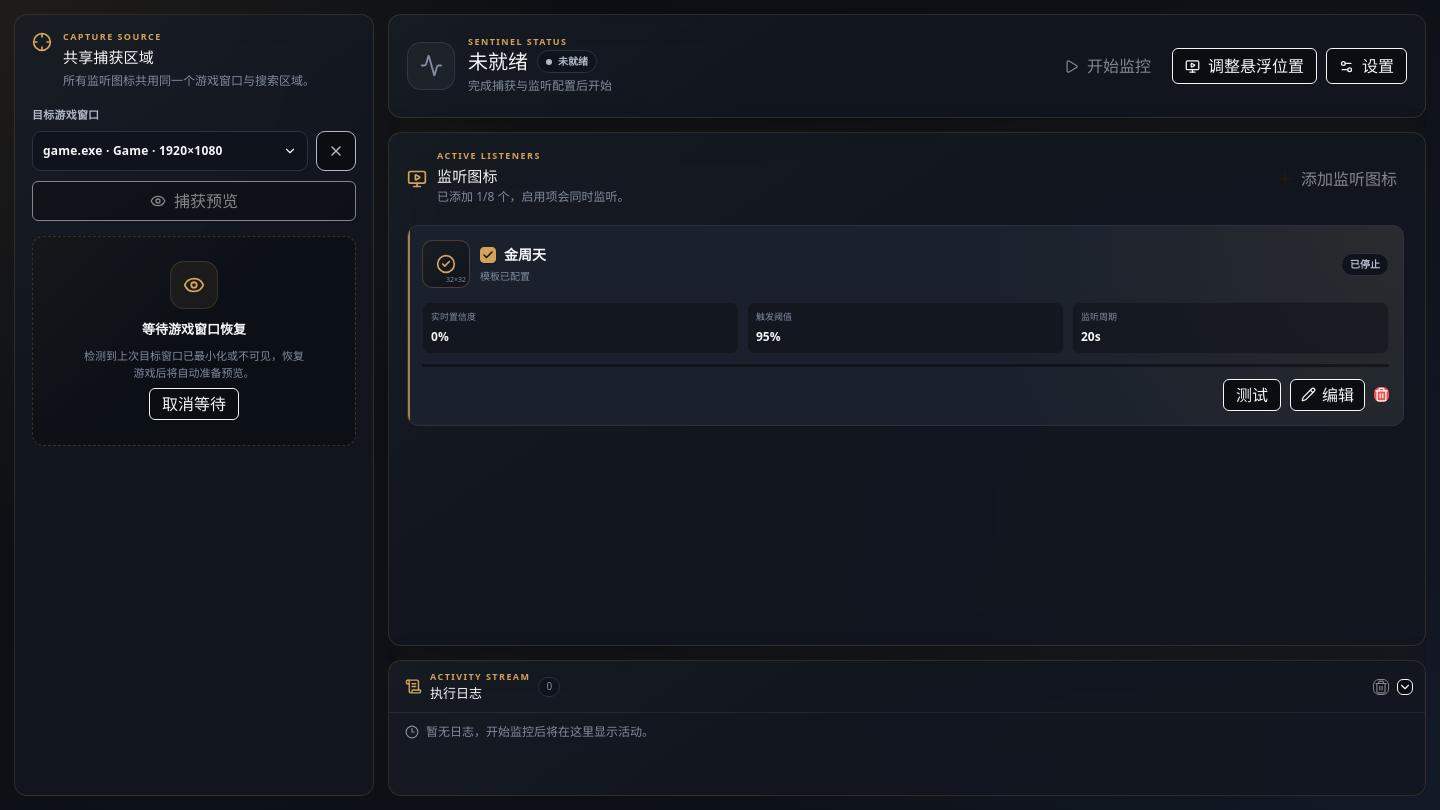
Scenario: BuffAssistantPage › starts background capture restoration once when a target is saved
Expected: the text "等待游戏窗口恢复" is shown, [142, 320, 246, 340]
Click the button "取消等待". click: (194, 404)
box: [149, 388, 239, 420]
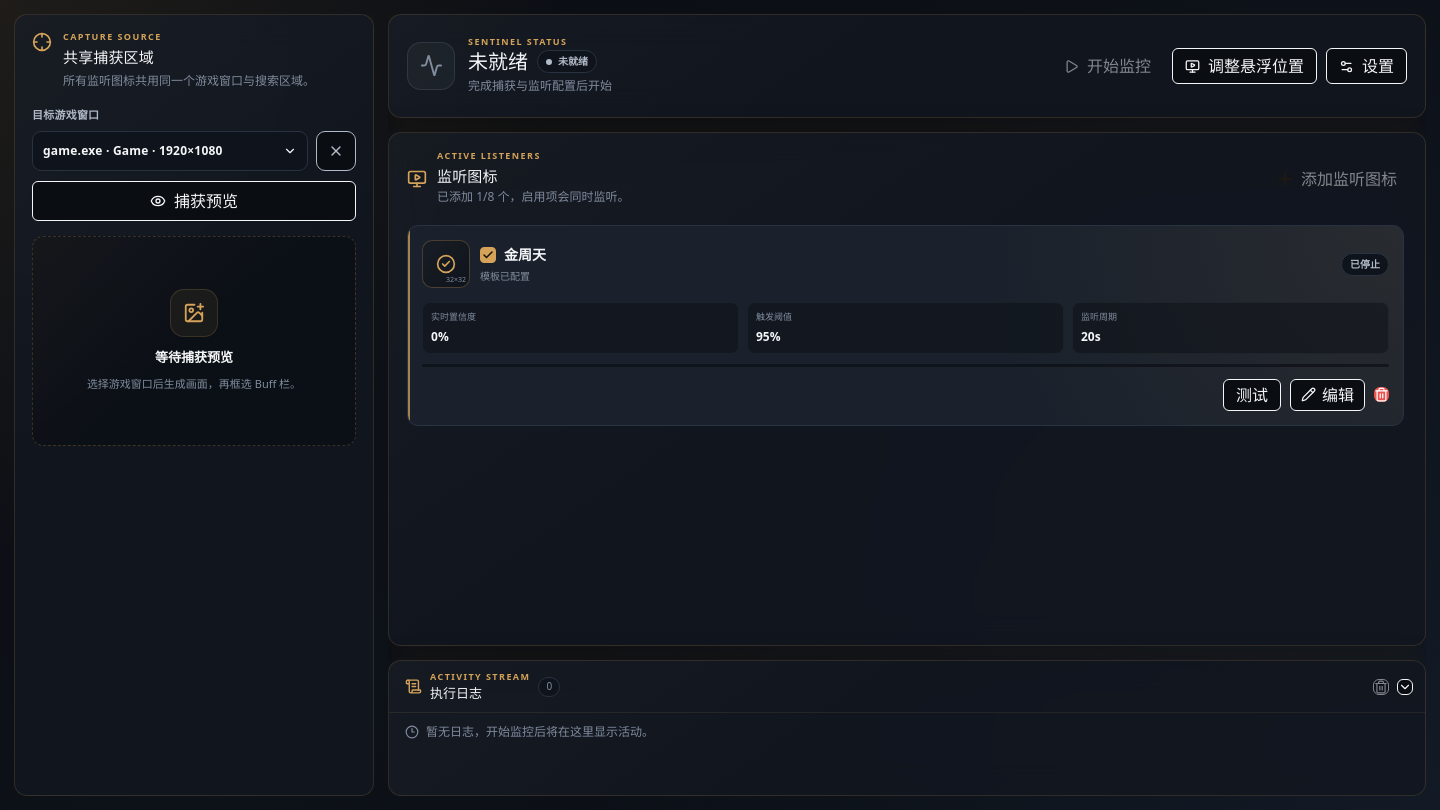
Expected: the text "等待捕获预览" is shown, [155, 348, 233, 368]
